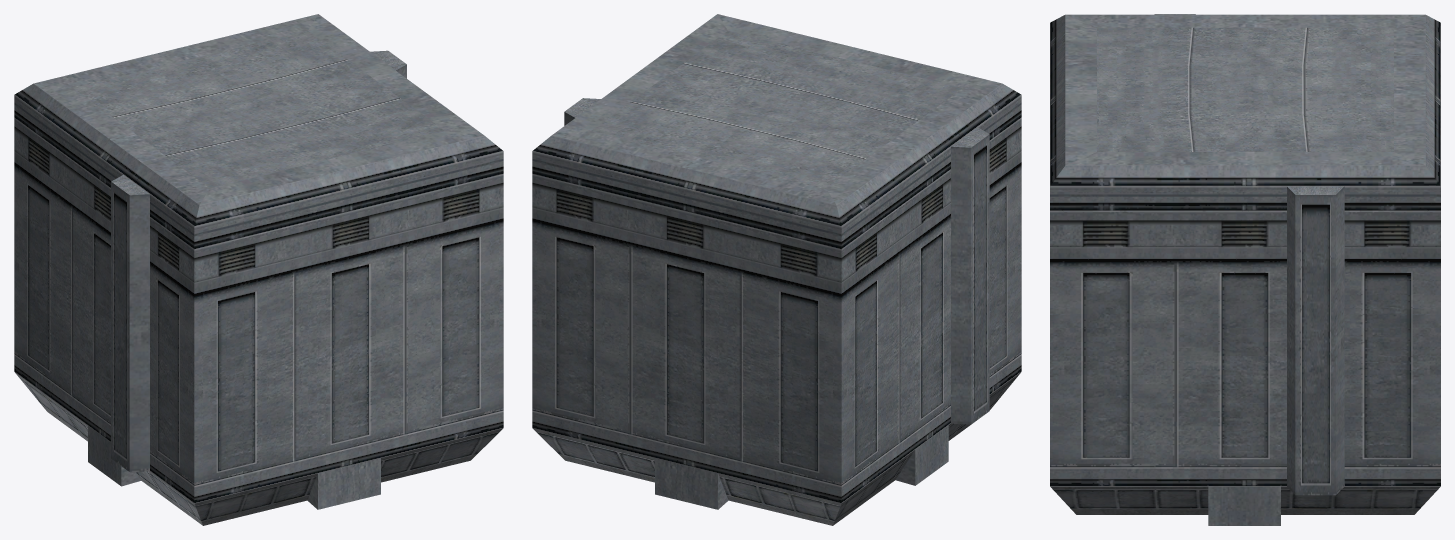
Rendered from poi_all_impl_crate_big_s01_l1.fbx.
The picture shows the model from 3 angles, left to right: view 1: azimuth 30°, elevation 25°; view 2: azimuth 150°, elevation 25°; view 3: azimuth 270°, elevation 25°; orthographic projection. The views are drawn at different scales.
Parts seen in each view (by area): view 1: mesh_node; view 2: mesh_node; view 3: mesh_node.
Part boxes in pixels (<box>): mesh_node: <box>14,14,503,525</box>; mesh_node: <box>532,14,1021,525</box>; mesh_node: <box>1050,14,1440,525</box>.
Size of the model in its own units: 3.77 by 3.44 by 3.44.
